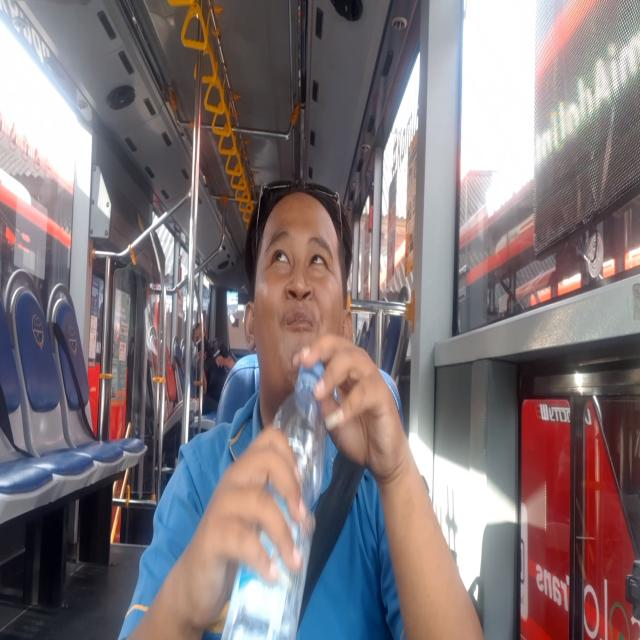Seatbelt: (222, 352, 329, 640)
